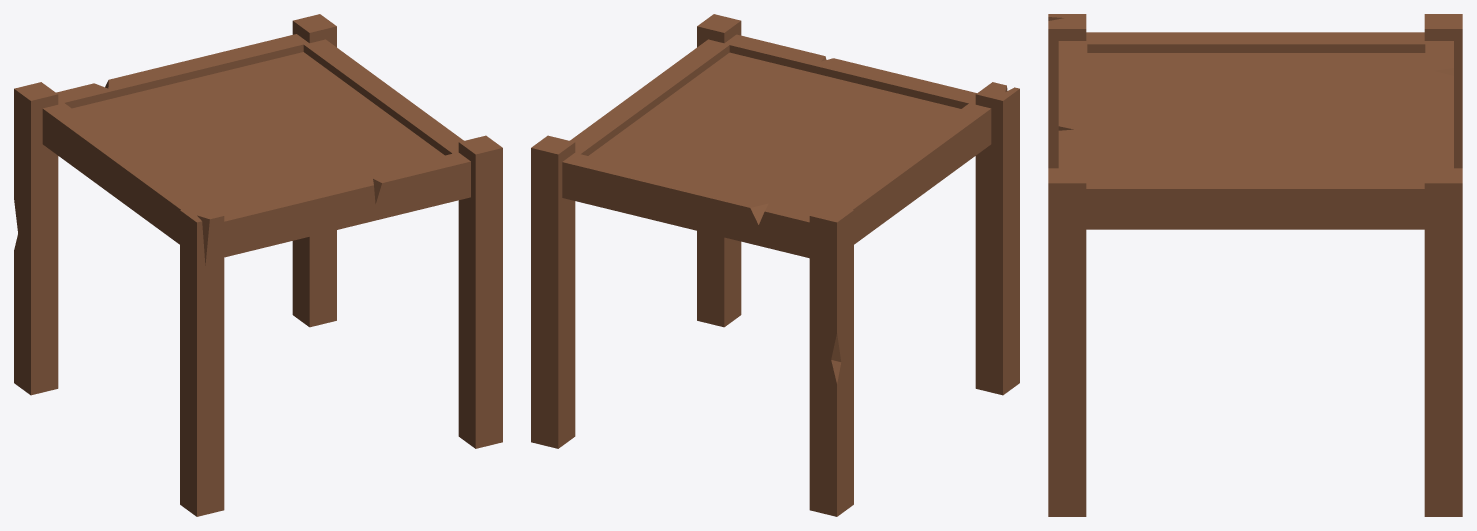
Rendered from smallTable.fbx.
3 renders of one model, left to right at view 1: azimuth 30°, elevation 25°; view 2: azimuth 150°, elevation 25°; view 3: azimuth 270°, elevation 25°, orthographic. The views are drawn at different scales.
Parts seen in each view (by area): view 1: smallTable; view 2: smallTable; view 3: smallTable.
Boxes of the visible parts, box(x1,y1,x2,y2) form: smallTable: box(14, 14, 502, 516); smallTable: box(531, 14, 1019, 516); smallTable: box(1048, 14, 1462, 516).
Size of the model in its own units: 56.38 by 51.83 by 58.34.
1 material, 1 textured.
